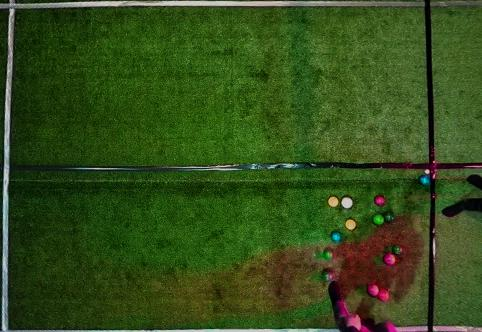blue: (331, 231, 341, 242), (419, 175, 430, 185)
green: (373, 214, 384, 226), (322, 271, 332, 282), (323, 250, 334, 260), (392, 245, 402, 254), (385, 213, 394, 222)
red: (367, 284, 379, 297), (383, 254, 396, 266), (340, 197, 353, 209), (377, 289, 389, 301), (374, 196, 385, 206)
vline: (424, 0, 481, 331), (0, 0, 18, 331)
white: (425, 169, 430, 174)
yellow: (345, 219, 356, 230), (328, 196, 339, 207)
